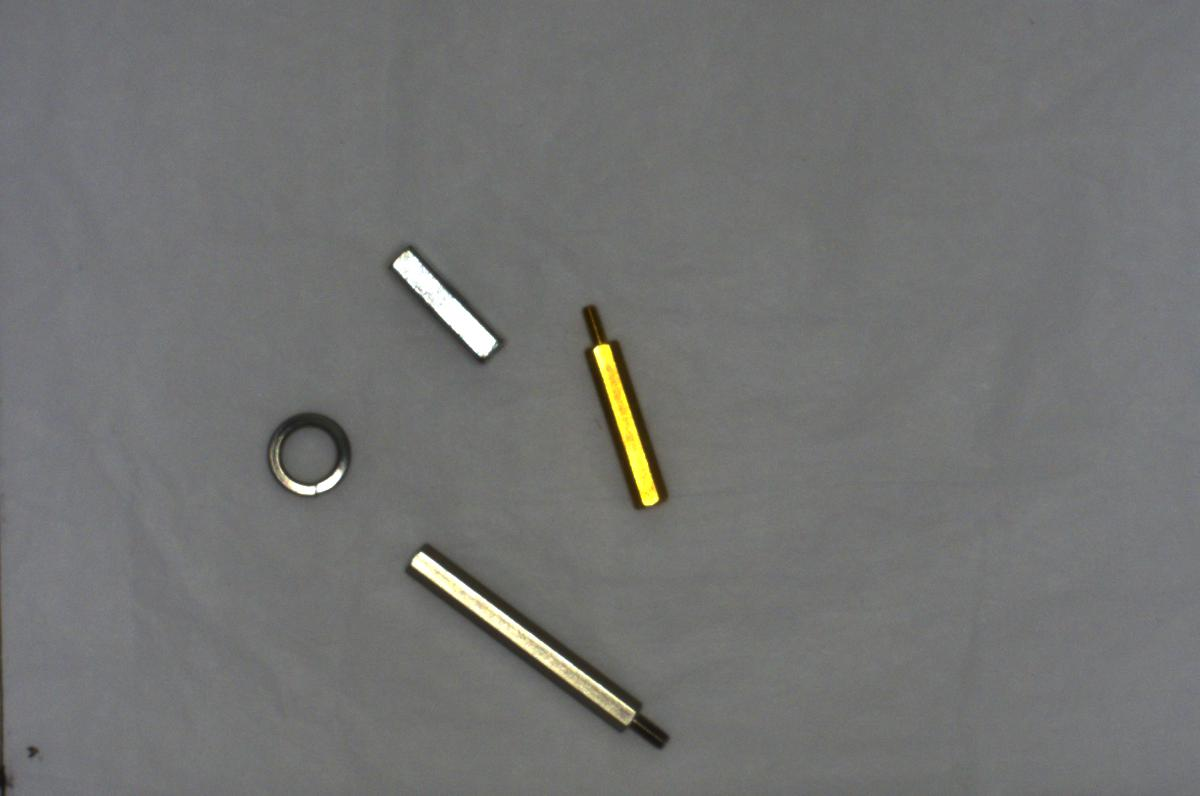Hexagon pillar: (572, 293, 672, 516)
Hexagonal steel column: (401, 546, 673, 759)
Rectangular nut: (381, 243, 505, 369)
Spring washer: (252, 398, 358, 503)
